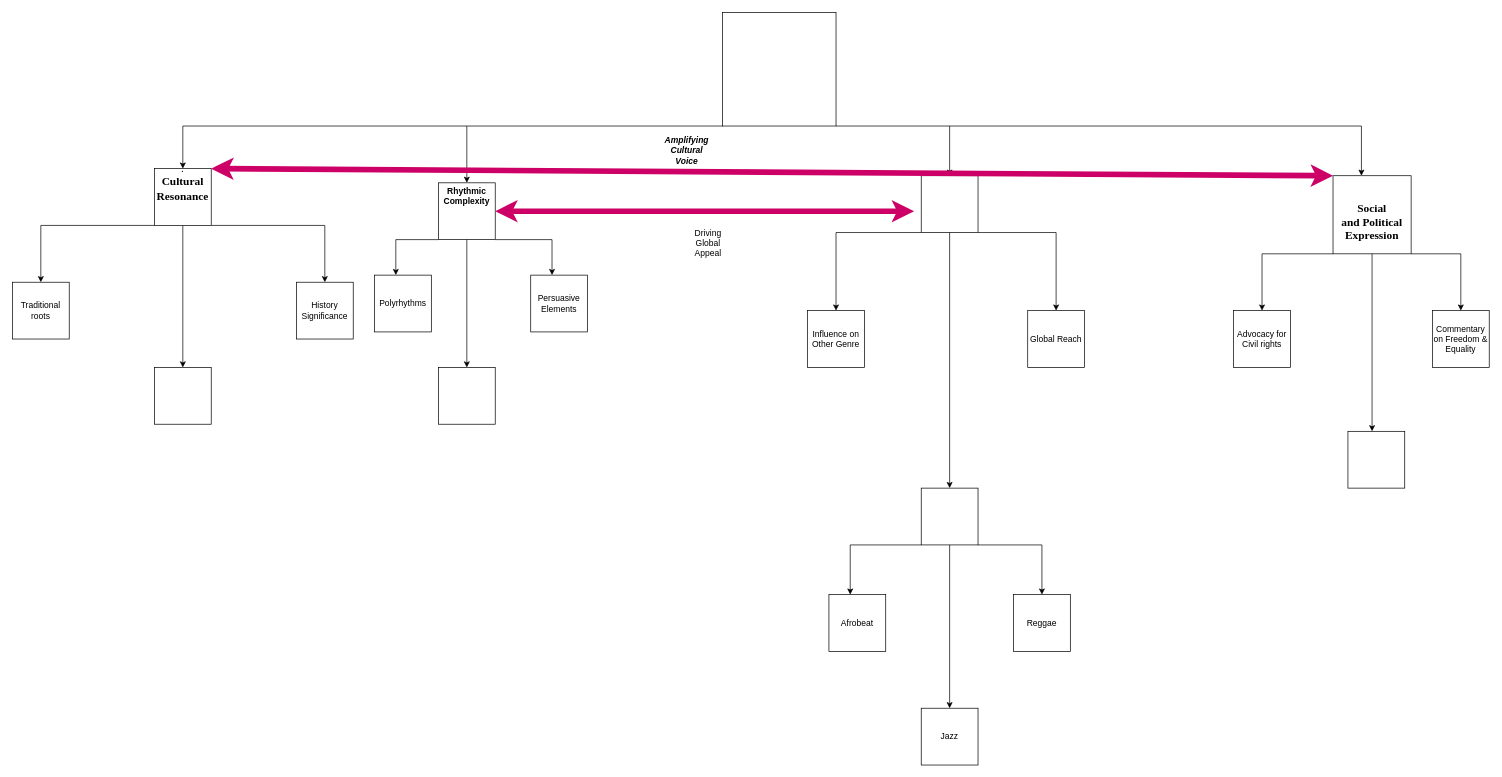
Image size: 1502x777. Some labels were removed from this diagram. Here are the shapes that lost their labels. From the top down, the centre of each, then its label:
At point (779, 69): "The Afro Music System: A Journey Through Rhythm and History".
At point (949, 204): "Transcultural Fusion".
At point (182, 395): "Cultural Diversity".
At point (466, 395): "Syncopation".
At point (1376, 459): "E.G. of Influential Artist".
At point (949, 516): "Sub-genres".
